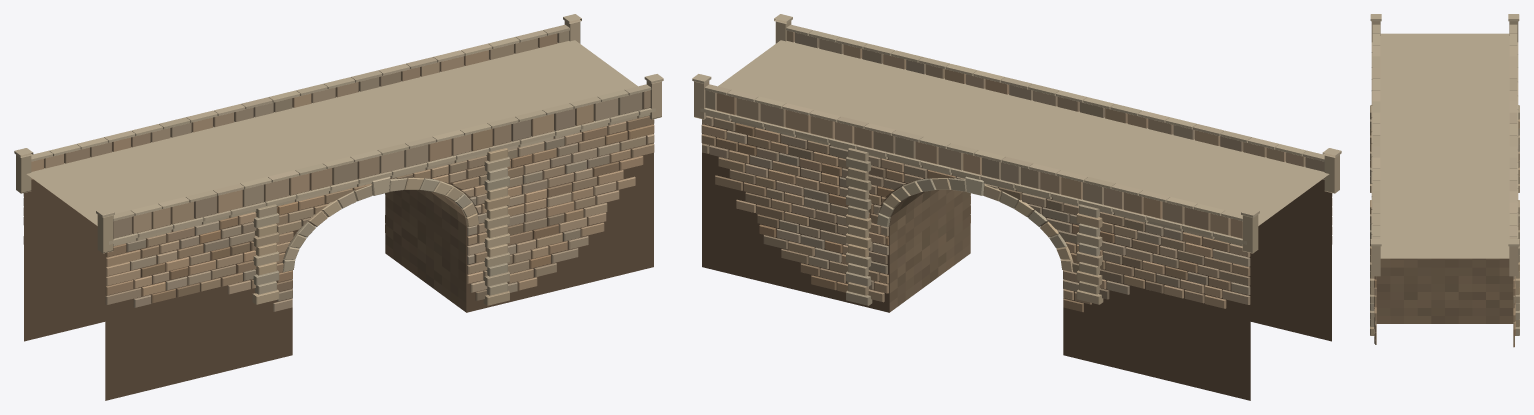
The model's file is mesa-bridge.glb.
3 views of the same model, side by side, from view 1: azimuth 30°, elevation 25°; view 2: azimuth 150°, elevation 25°; view 3: azimuth 270°, elevation 25° (orthographic). The views are drawn at different scales.
Parts seen in each view (by area): view 1: mesa-bridge; view 2: mesa-bridge; view 3: mesa-bridge.
Boxes of the visible parts, bbox=[...] form: mesa-bridge: bbox=[14, 14, 663, 400]; mesa-bridge: bbox=[692, 14, 1341, 400]; mesa-bridge: bbox=[1370, 14, 1519, 347].
Bounding box in the file's own units: 49.1 × 15.85 × 13.5.
